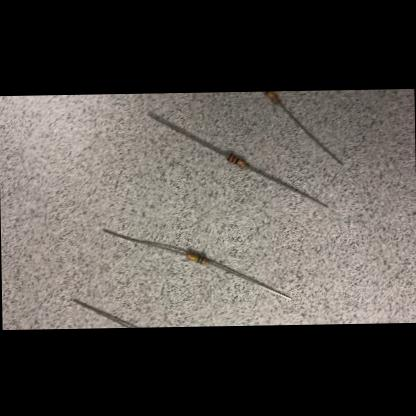resistor: (226, 151, 248, 166), (186, 250, 208, 264), (263, 90, 281, 104)
wire: (280, 100, 341, 164), (247, 162, 326, 209), (206, 260, 291, 300), (146, 113, 225, 156), (104, 228, 186, 256), (74, 297, 132, 327)
